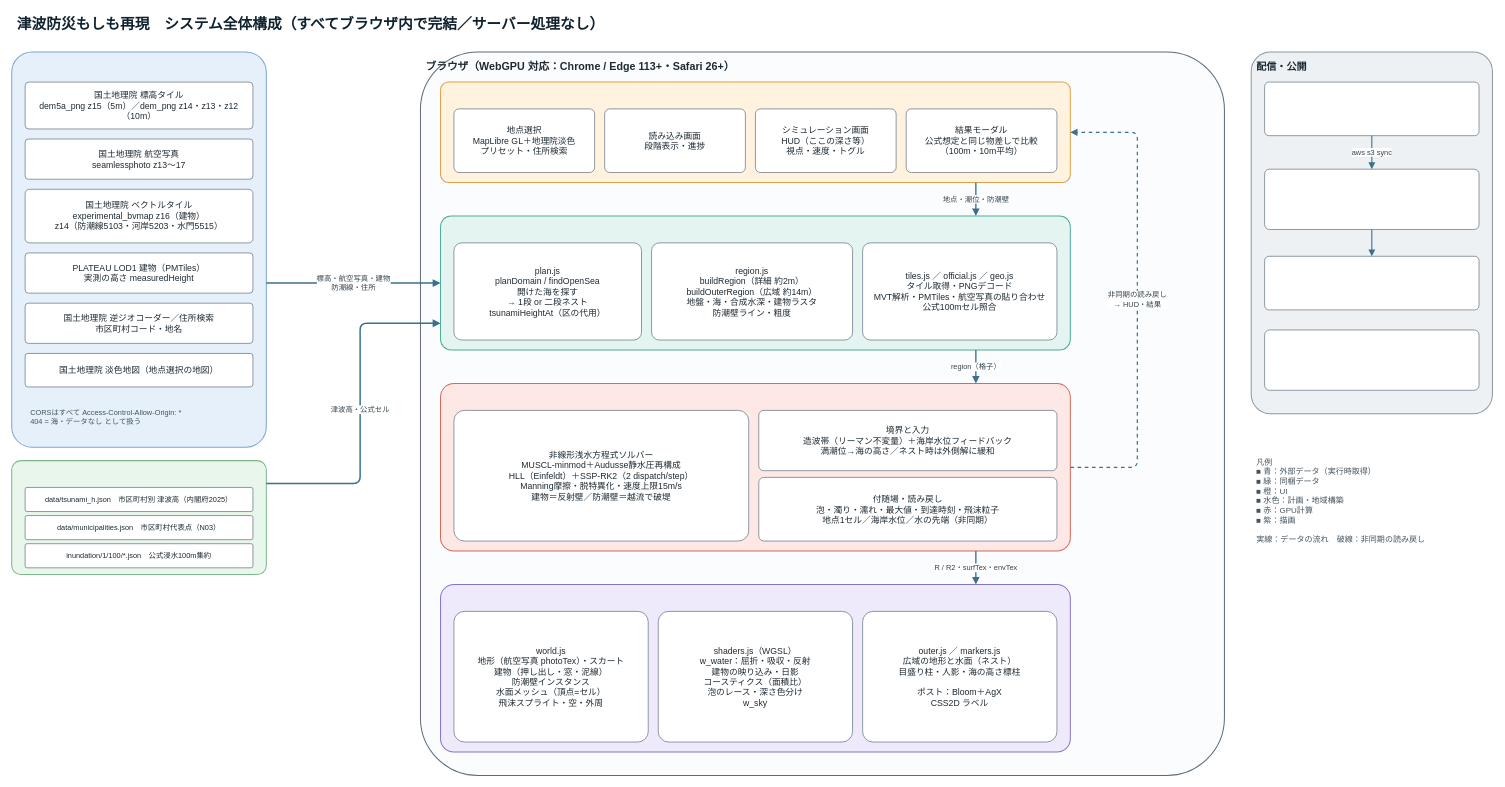
This 1505x787 diagram has some shape labels left out. The box of each missing label's shape, as (x1, y1, x2, y2) in pixels:
Amazon S3 share.akirafunakoshi.com /tsunami-simulation/: (1264, 169, 1479, 229)
CloudFront（HTTPS） WebGPU はセキュアコンテキスト必須: (1264, 256, 1479, 310)
GitHub（MIT） Akira-Papa/ tsunami-bousai-moshimo-saigen: (1264, 329, 1479, 390)
Vite build dist/（静的ファイルのみ・base './'）: (1264, 81, 1479, 136)
① UI 層 index.html ／ src/main.js ／ src/picker.js ／ style.css: (440, 81, 1071, 183)
② 計画・地域構築 src/data/: (440, 215, 1071, 350)
③ GPU 計算（TSL compute ＋ WGSL） src/sim/swe.js ／ swe-wgsl.js: (440, 383, 1071, 551)
④ 描画（three.js r186 WebGPURenderer） src/render/: (440, 584, 1071, 752)
同梱データ（public/ → dist/）: (11, 460, 267, 575)
外部データ（実行時にブラウザが直接取得）: (11, 51, 267, 447)
